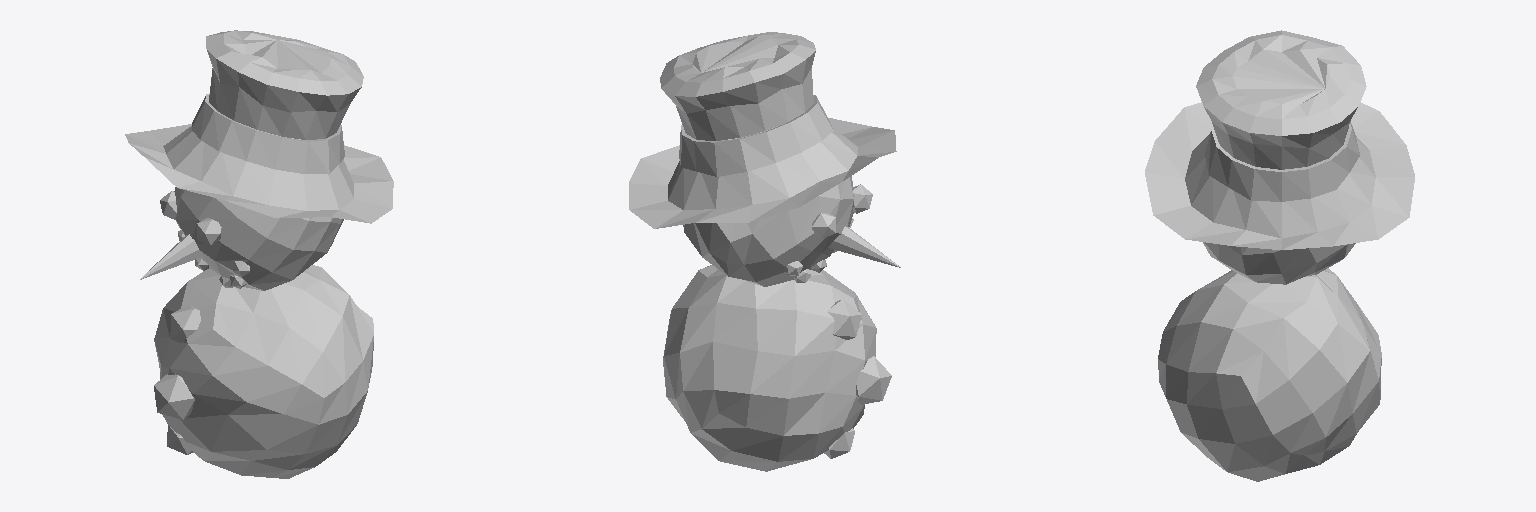
File: Snowman.obj
3 views of the same model, side by side, from view 1: azimuth 30°, elevation 25°; view 2: azimuth 150°, elevation 25°; view 3: azimuth 270°, elevation 25° (orthographic).
Parts seen in each view (by area): view 1: BottomSnowBall, Hat, TopSnowBall, RedBand, Stones, Carrot; view 2: BottomSnowBall, Hat, TopSnowBall, RedBand, Stones, Carrot; view 3: Hat, BottomSnowBall, RedBand, TopSnowBall.
Part boxes in pixels (x1,y1,x2,y2): BottomSnowBall: (154,265,373,478); Hat: (125,30,393,223); TopSnowBall: (174,121,343,290); RedBand: (191,93,344,173); Stones: (154,191,249,454); Carrot: (140,234,202,279); BottomSnowBall: (663,265,876,471); Hat: (629,32,896,228); TopSnowBall: (683,124,853,286); RedBand: (679,95,833,176); Stones: (785,184,891,458); Carrot: (828,226,900,267); Hat: (1145,30,1414,249); BottomSnowBall: (1158,268,1381,481); RedBand: (1205,121,1359,201); TopSnowBall: (1203,242,1355,284).
Size of the model in its own units: 275 by 437 by 256.